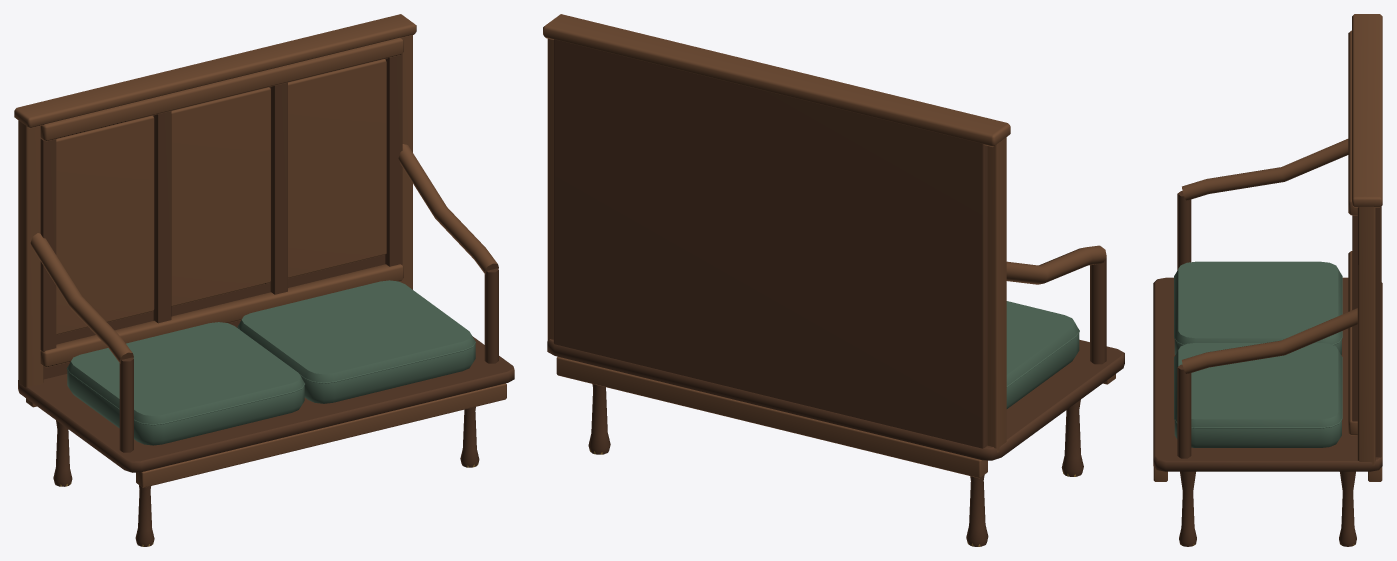
The model's file is rpg-mansion-high-back-settle-two-01.glb.
3 renders of one model, left to right at view 1: azimuth 30°, elevation 25°; view 2: azimuth 150°, elevation 25°; view 3: azimuth 270°, elevation 25°, orthographic. The views are drawn at different scales.
Parts seen in each view (by area): view 1: rpg-mansion-high-back-settle-two-01; view 2: rpg-mansion-high-back-settle-two-01; view 3: rpg-mansion-high-back-settle-two-01.
Boxes of the visible parts, bbox=[...] form: rpg-mansion-high-back-settle-two-01: bbox=[14, 14, 514, 546]; rpg-mansion-high-back-settle-two-01: bbox=[543, 14, 1124, 546]; rpg-mansion-high-back-settle-two-01: bbox=[1153, 14, 1382, 546].
Bounding box in the file's own units: 1.45 × 1.32 × 0.76.
